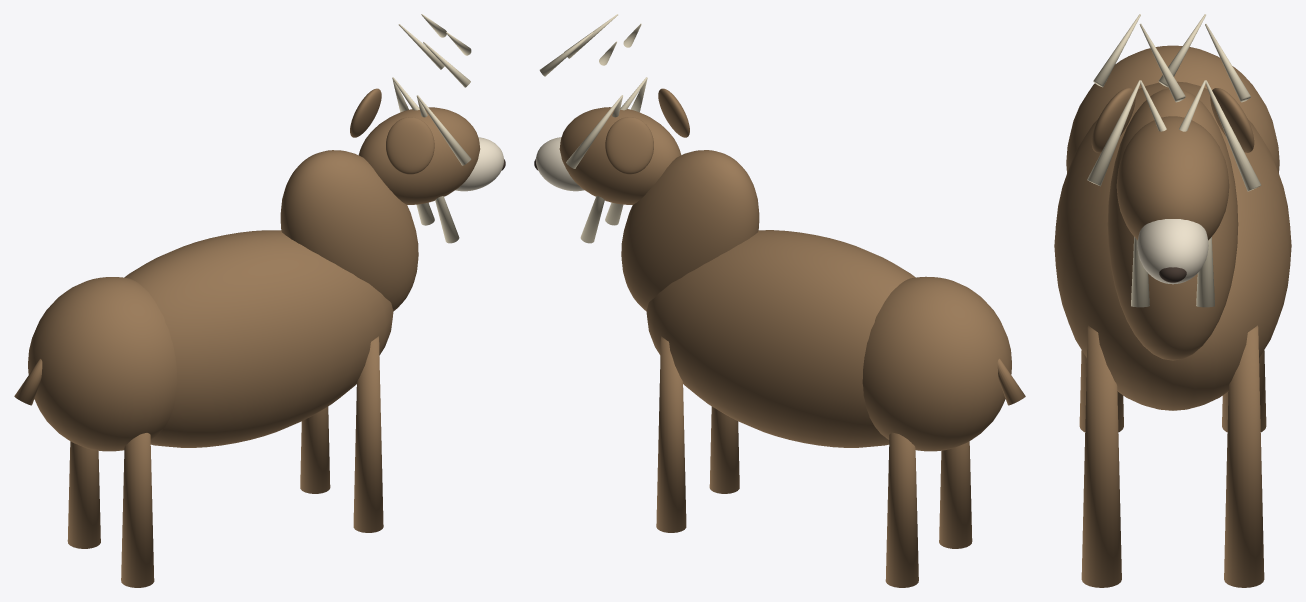
File: deer.glb
3 views of the same model, side by side, from view 1: azimuth 30°, elevation 25°; view 2: azimuth 150°, elevation 25°; view 3: azimuth 270°, elevation 25° (orthographic). The views are drawn at different scales.
Parts seen in each view (by area): view 1: DeerBody, LegFR, LegBR, LegBL, LegFL; view 2: DeerBody, LegFL, LegBL, LegBR, LegFR; view 3: DeerBody, LegFL, LegFR, LegBL, LegBR.
Boxes of the visible parts, x1=… form: DeerBody: x1=14, y1=14, x2=505, y2=451; LegFR: x1=353, y1=336, x2=383, y2=532; LegBR: x1=121, y1=433, x2=154, y2=587; LegBL: x1=67, y1=441, x2=100, y2=548; LegFL: x1=300, y1=406, x2=330, y2=493; DeerBody: x1=534, y1=14, x2=1025, y2=451; LegFL: x1=656, y1=336, x2=686, y2=532; LegBL: x1=885, y1=432, x2=918, y2=587; LegBR: x1=939, y1=441, x2=972, y2=548; LegFR: x1=709, y1=406, x2=739, y2=493; DeerBody: x1=1054, y1=14, x2=1291, y2=410; LegFL: x1=1224, y1=325, x2=1264, y2=587; LegFR: x1=1081, y1=325, x2=1121, y2=587; LegBL: x1=1222, y1=350, x2=1266, y2=432; LegBR: x1=1079, y1=350, x2=1123, y2=432.
Size of the model in its own units: 2.54 by 2.29 by 0.8.
